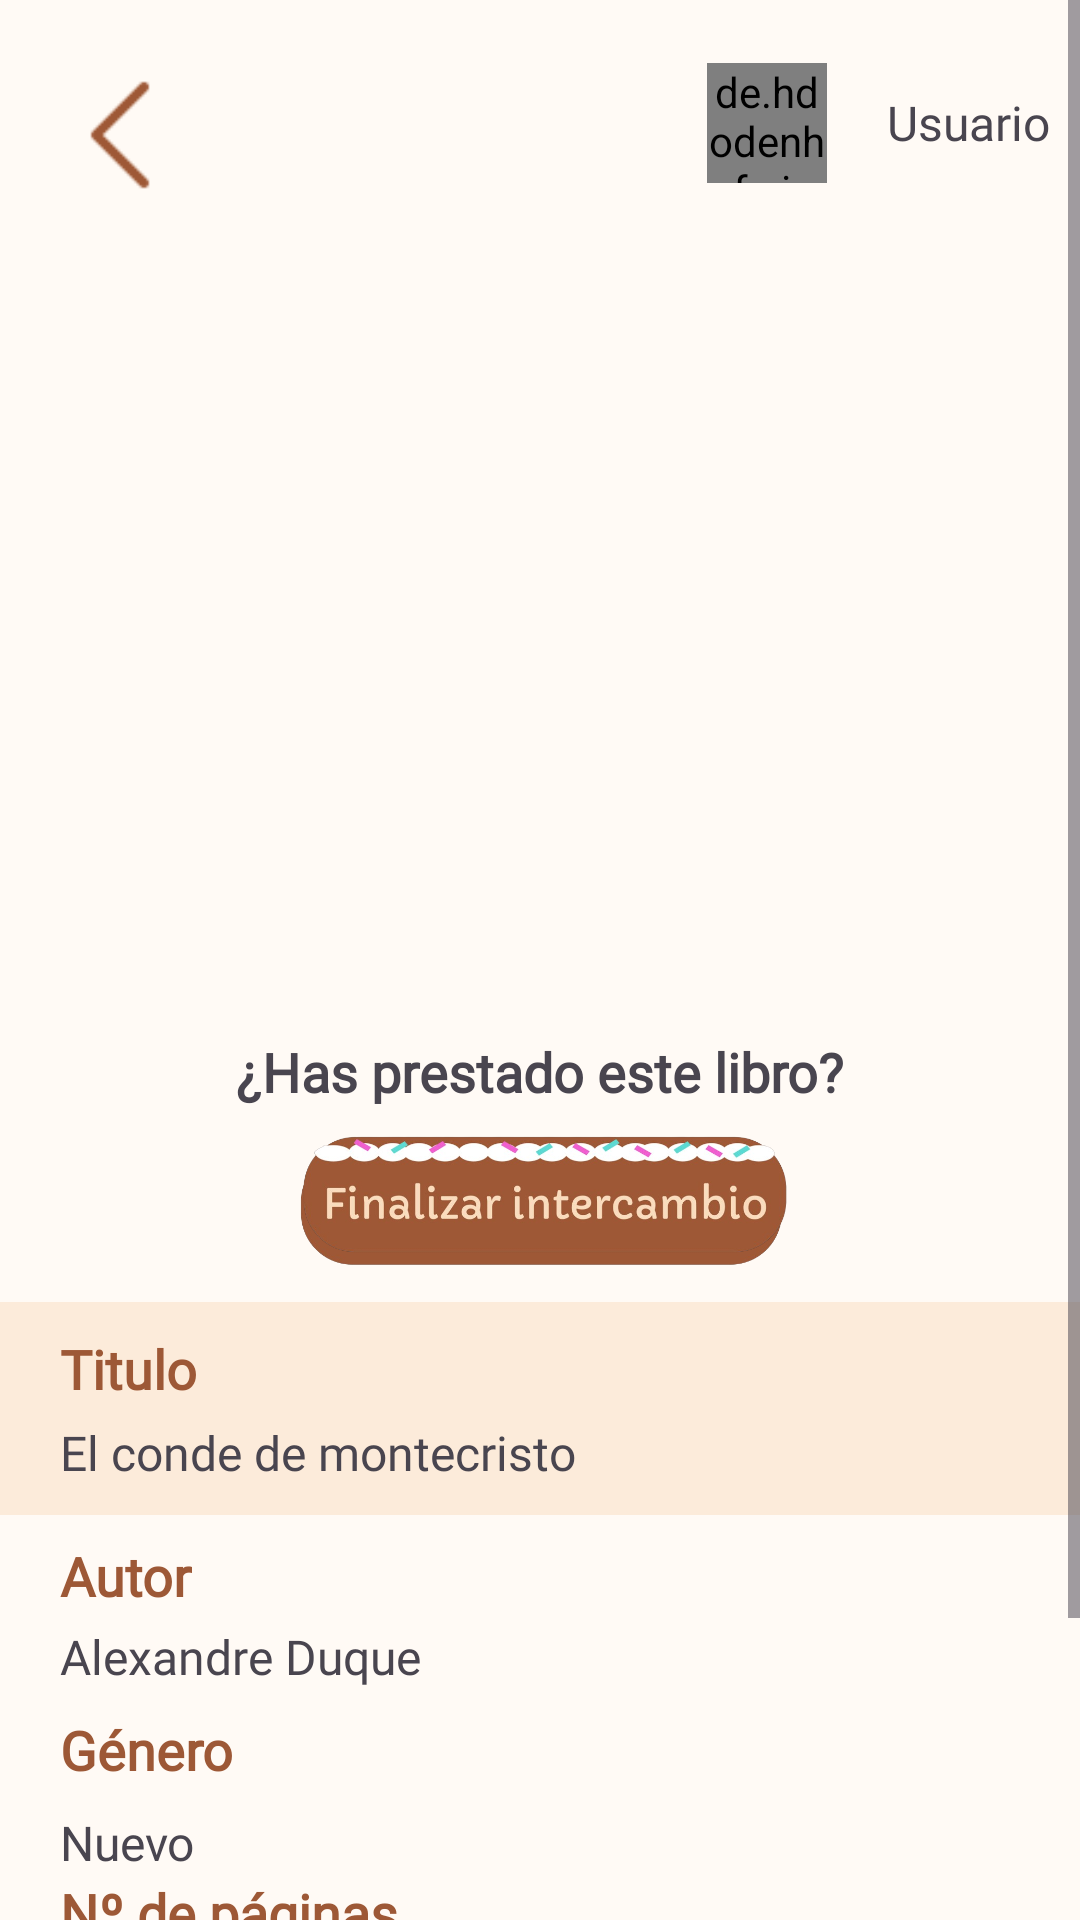

Named icons in this screenshot (1080 × 1920) and their centers, [x,y]:
backk: [120,135]
